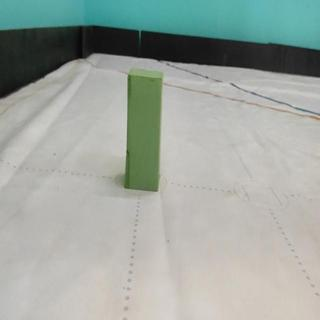greenbox: (123, 63, 168, 193)
